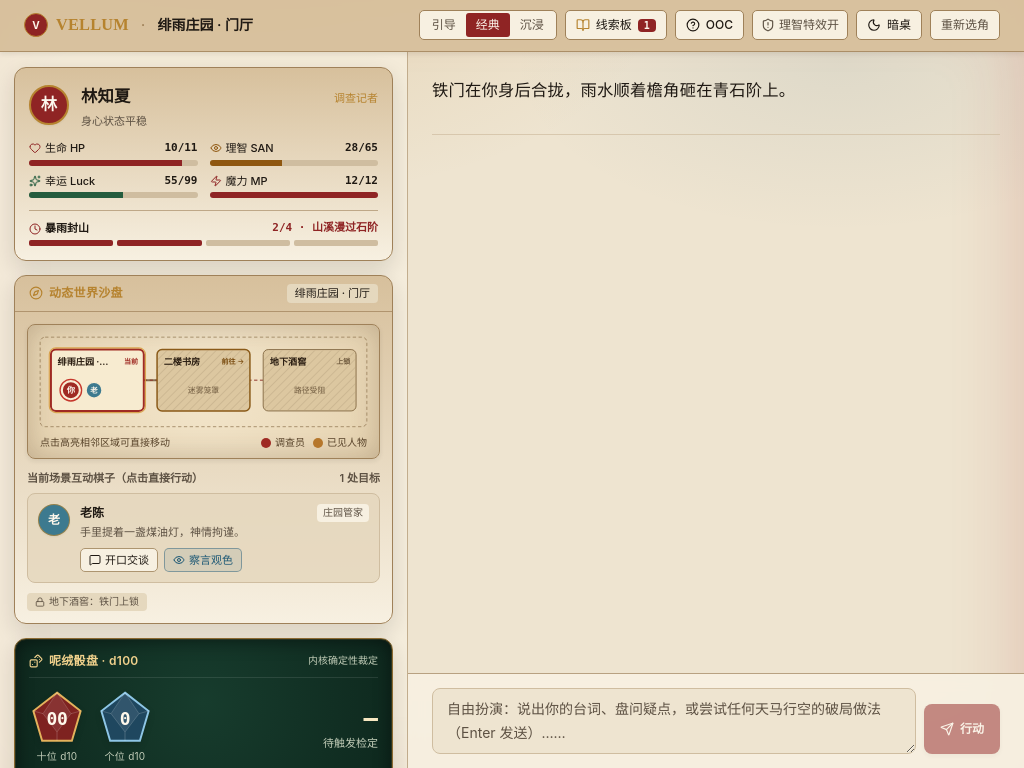
Test case: WorkspaceFlow end-to-end UI interactions › handles 409 conflict banner with automatic state resync, and supports spoiler-gated Case Debrief when ended
In the text box named "输入你的调查行动或发言": (674, 721) [432,688,916,754], type "前往二楼书房查看账册"
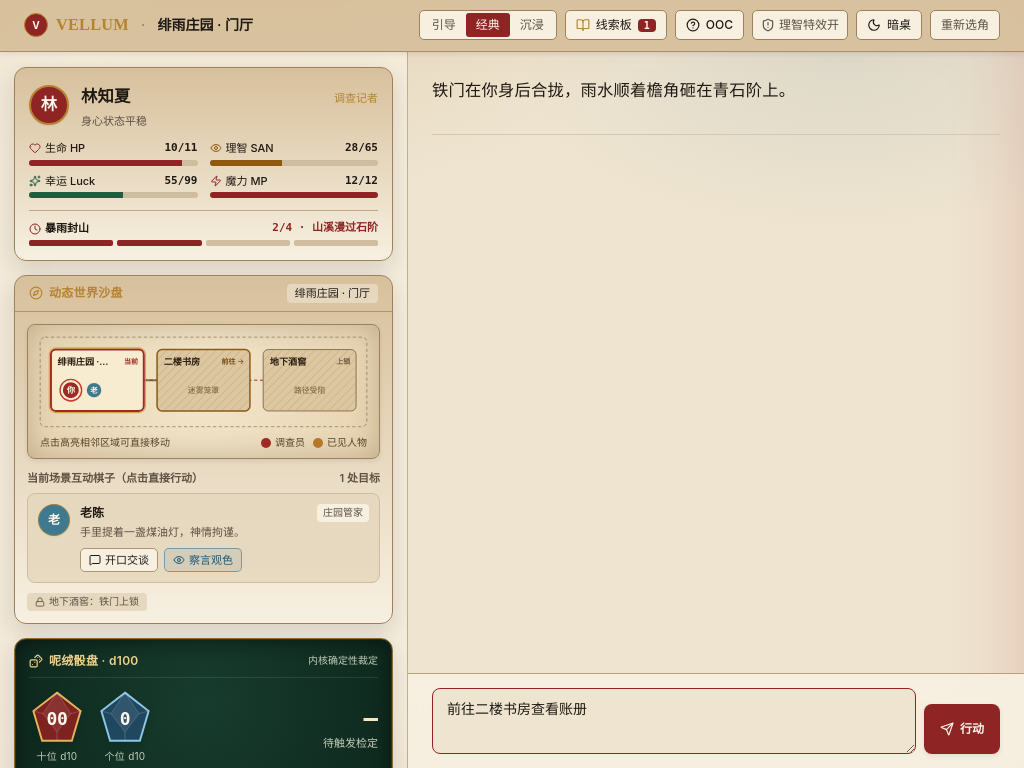
Click the button "行动": (962, 729) [924,704,1000,754]
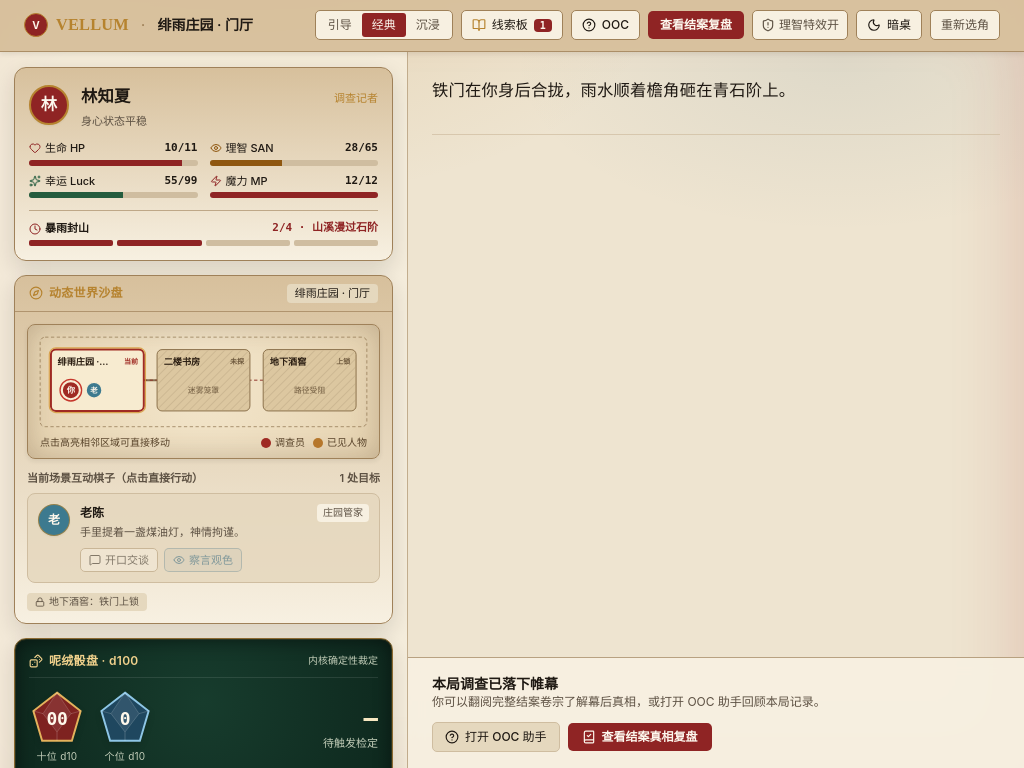
Click the button "查看结案真相复盘": (640, 737) [568,723,712,751]
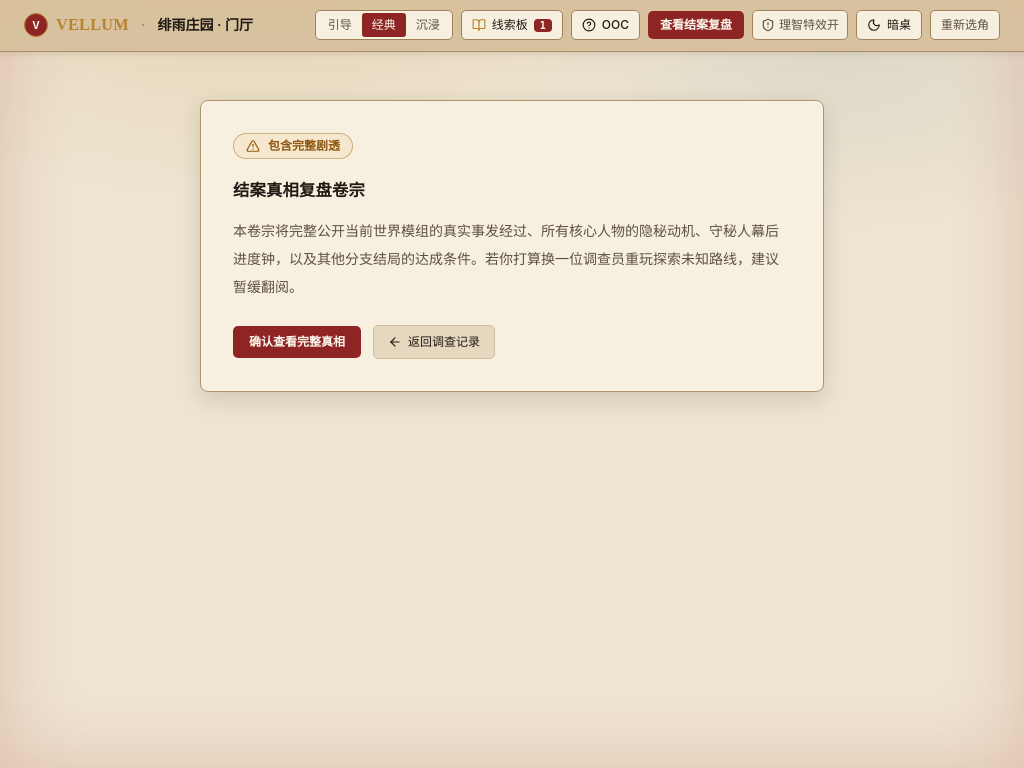
Result: the text "包含完整剧透" is shown at [268,138,340,154]
Click the button "确认查看完整真相": (297, 342) [233,326,361,358]
(page scrolled)
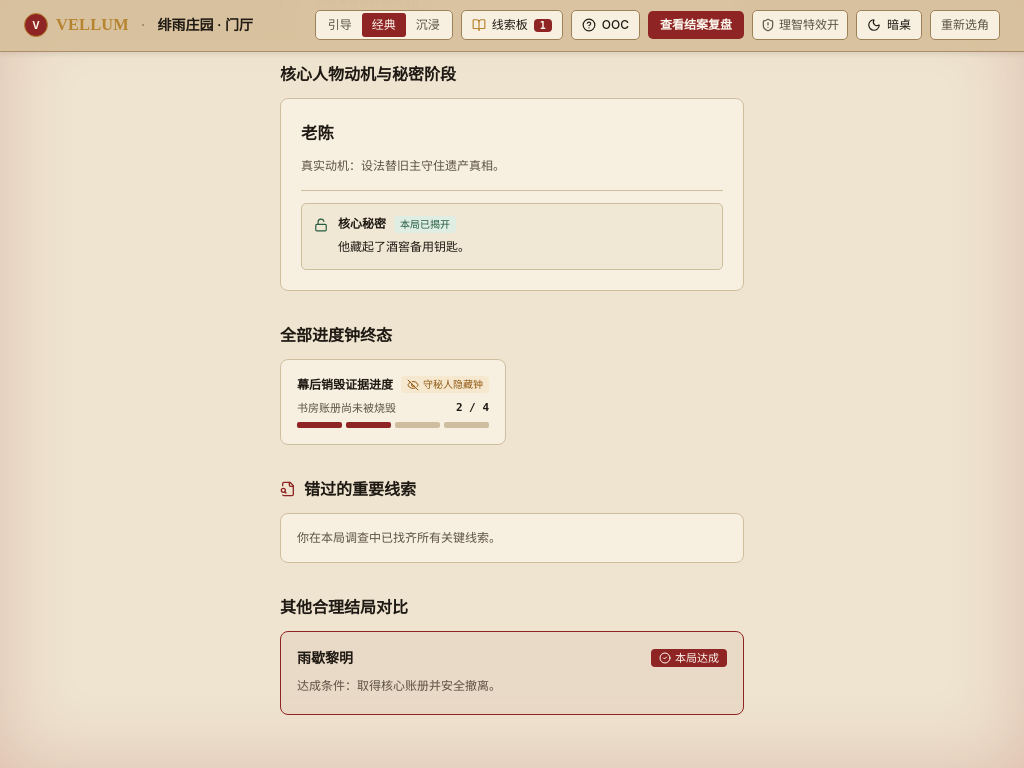
Result: the text "守秘人隐藏钟" is shown at [423,378,483,391]
